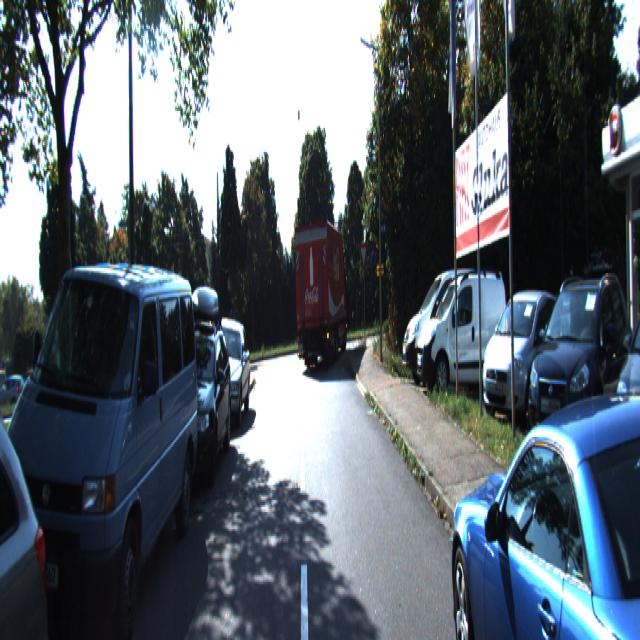Car: (446, 356, 640, 638), (524, 276, 636, 459), (0, 336, 66, 638), (152, 308, 235, 499), (481, 287, 570, 426), (414, 267, 507, 397), (612, 273, 640, 503), (202, 312, 254, 434)
Truck: (292, 216, 349, 371)
Van: (0, 234, 202, 638), (400, 263, 509, 386)
